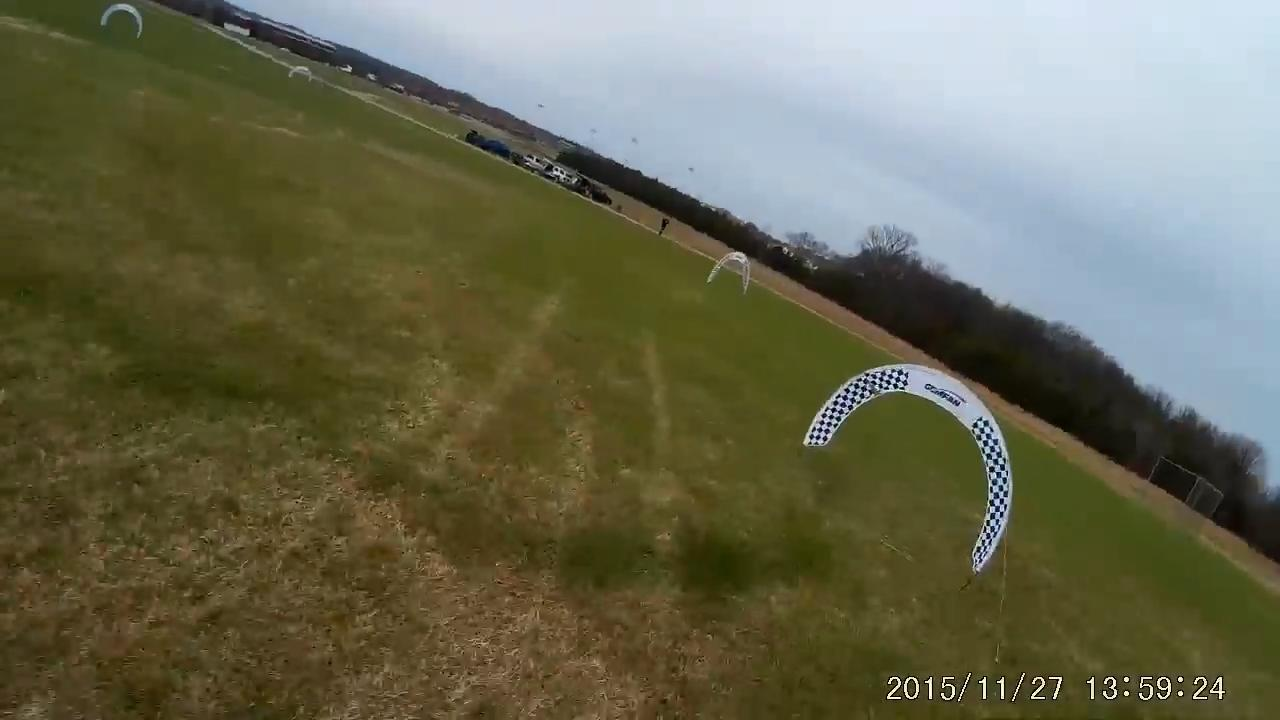gate: (799, 359, 1014, 571), (707, 248, 750, 298), (94, 1, 146, 38)
